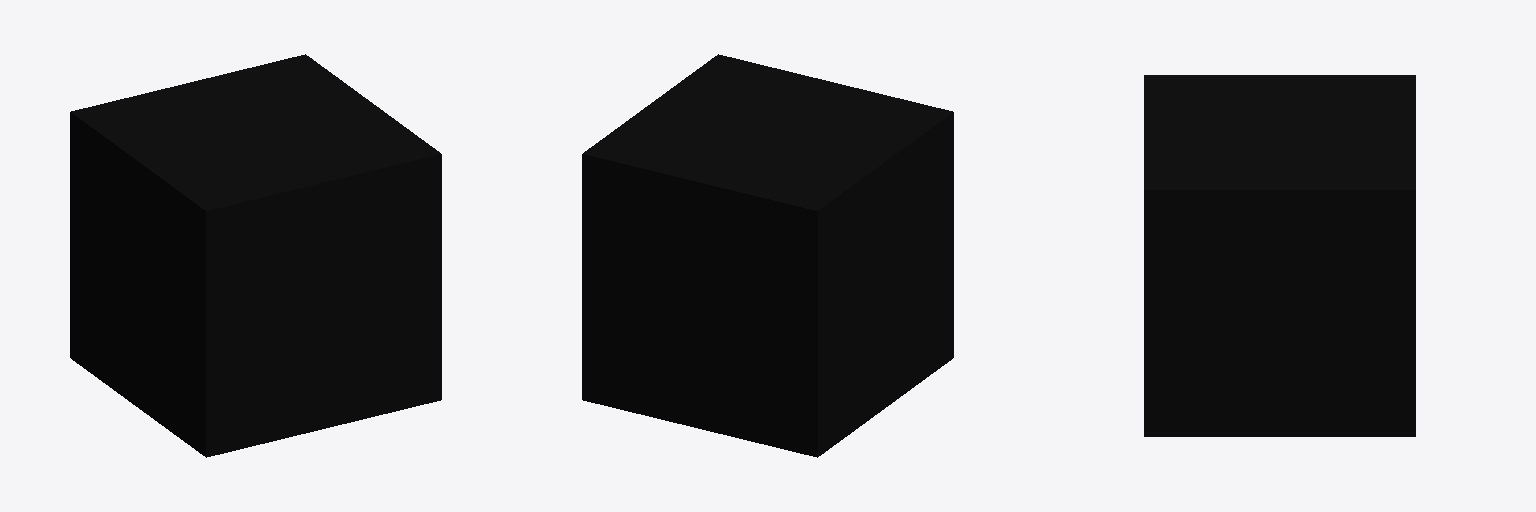
File: pvc_cube.obj
The picture shows the model from 3 angles: view 1: azimuth 30°, elevation 25°; view 2: azimuth 150°, elevation 25°; view 3: azimuth 270°, elevation 25°; orthographic projection.
Parts seen in each view (by area): view 1: pvc_cube; view 2: pvc_cube; view 3: pvc_cube.
Boxes of the visible parts, box(x1,y1,x2,y2) form: pvc_cube: box(70, 54, 441, 457); pvc_cube: box(582, 54, 953, 457); pvc_cube: box(1144, 75, 1415, 436).
Bounding box in the file's own units: 0.2 × 0.2 × 0.2.